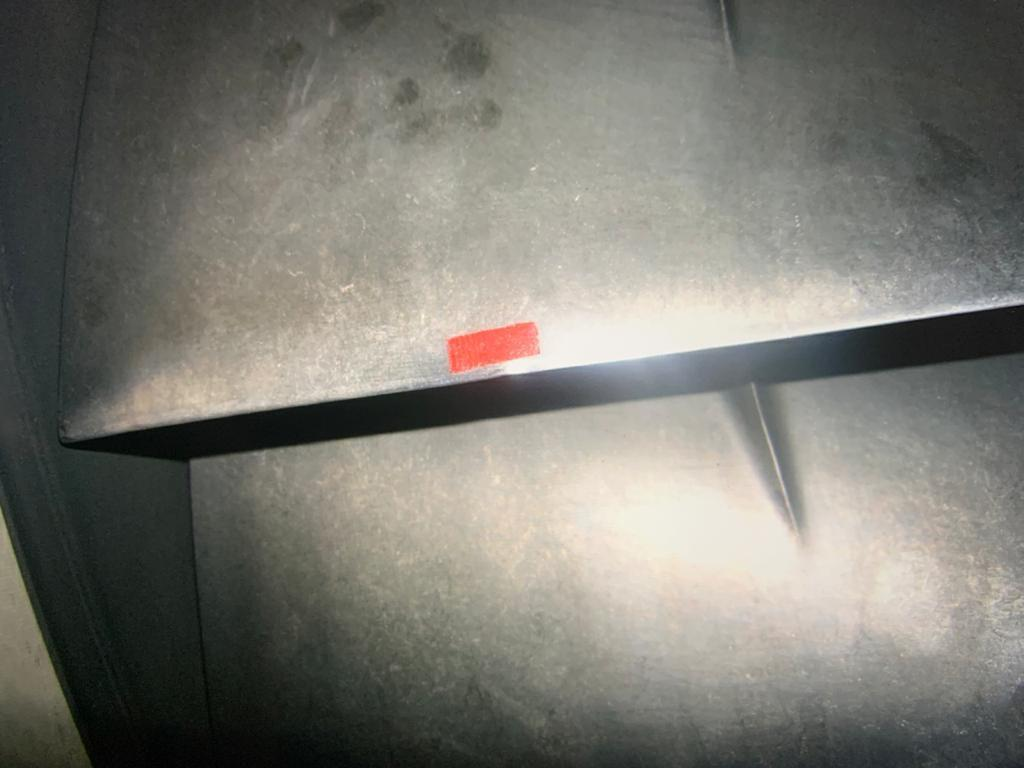distortion: (491, 374, 513, 379)
